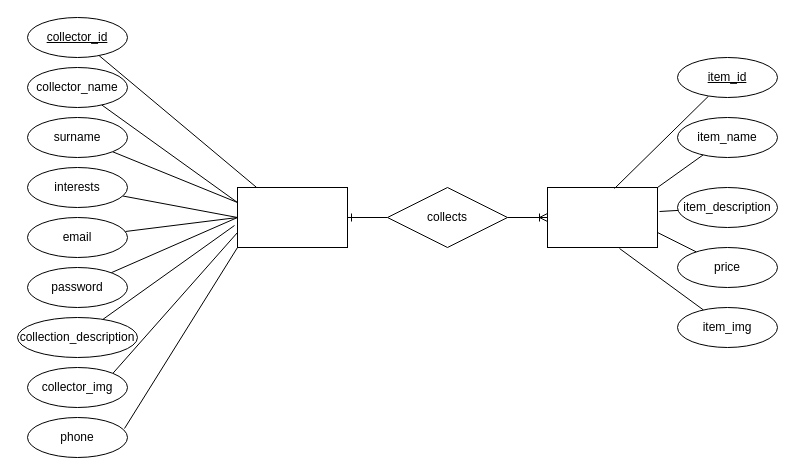
Some shapes in this 795 by 475 pixel diagram are drawn without their labels. Here are the shapes that lost their labels. From the top down, the box of each, then its label:
(236, 186, 348, 248): collector
(546, 186, 658, 248): items
